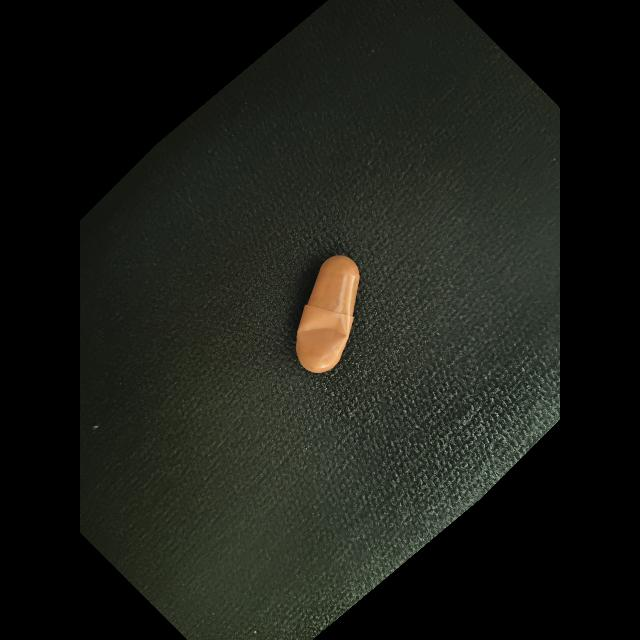Defective Capsule: (298, 313, 348, 361)
